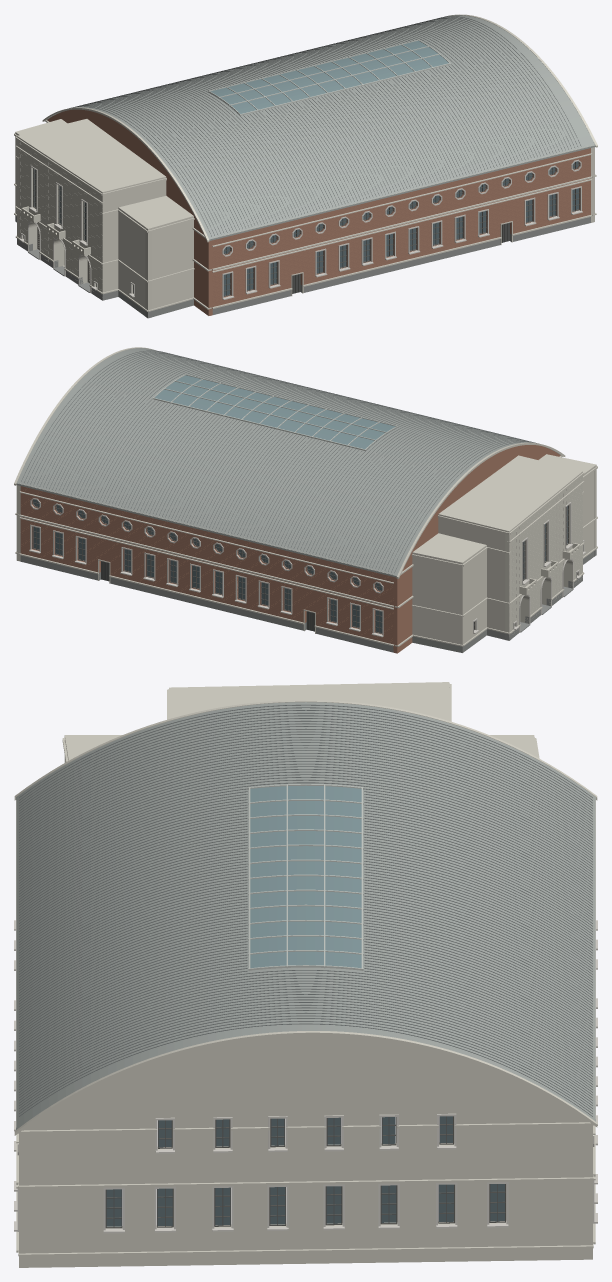
The model's file is yangpu-jiangwan-gymnasium-web.glb.
3 renders of one model, top to bottom at view 1: azimuth 30°, elevation 25°; view 2: azimuth 150°, elevation 25°; view 3: azimuth 270°, elevation 25°, orthographic. The views are drawn at different scales.
Visible parts, largest first — view 1: 江湾体育馆历史主楼; view 2: 江湾体育馆历史主楼; view 3: 江湾体育馆历史主楼.
Boxes of the visible parts, box(x1,y1,x2,y2) form: 江湾体育馆历史主楼: box(14, 14, 597, 318); 江湾体育馆历史主楼: box(14, 347, 597, 653); 江湾体育馆历史主楼: box(14, 682, 597, 1267).
Size of the model in its own units: 74.11 by 20.17 by 45.65.
